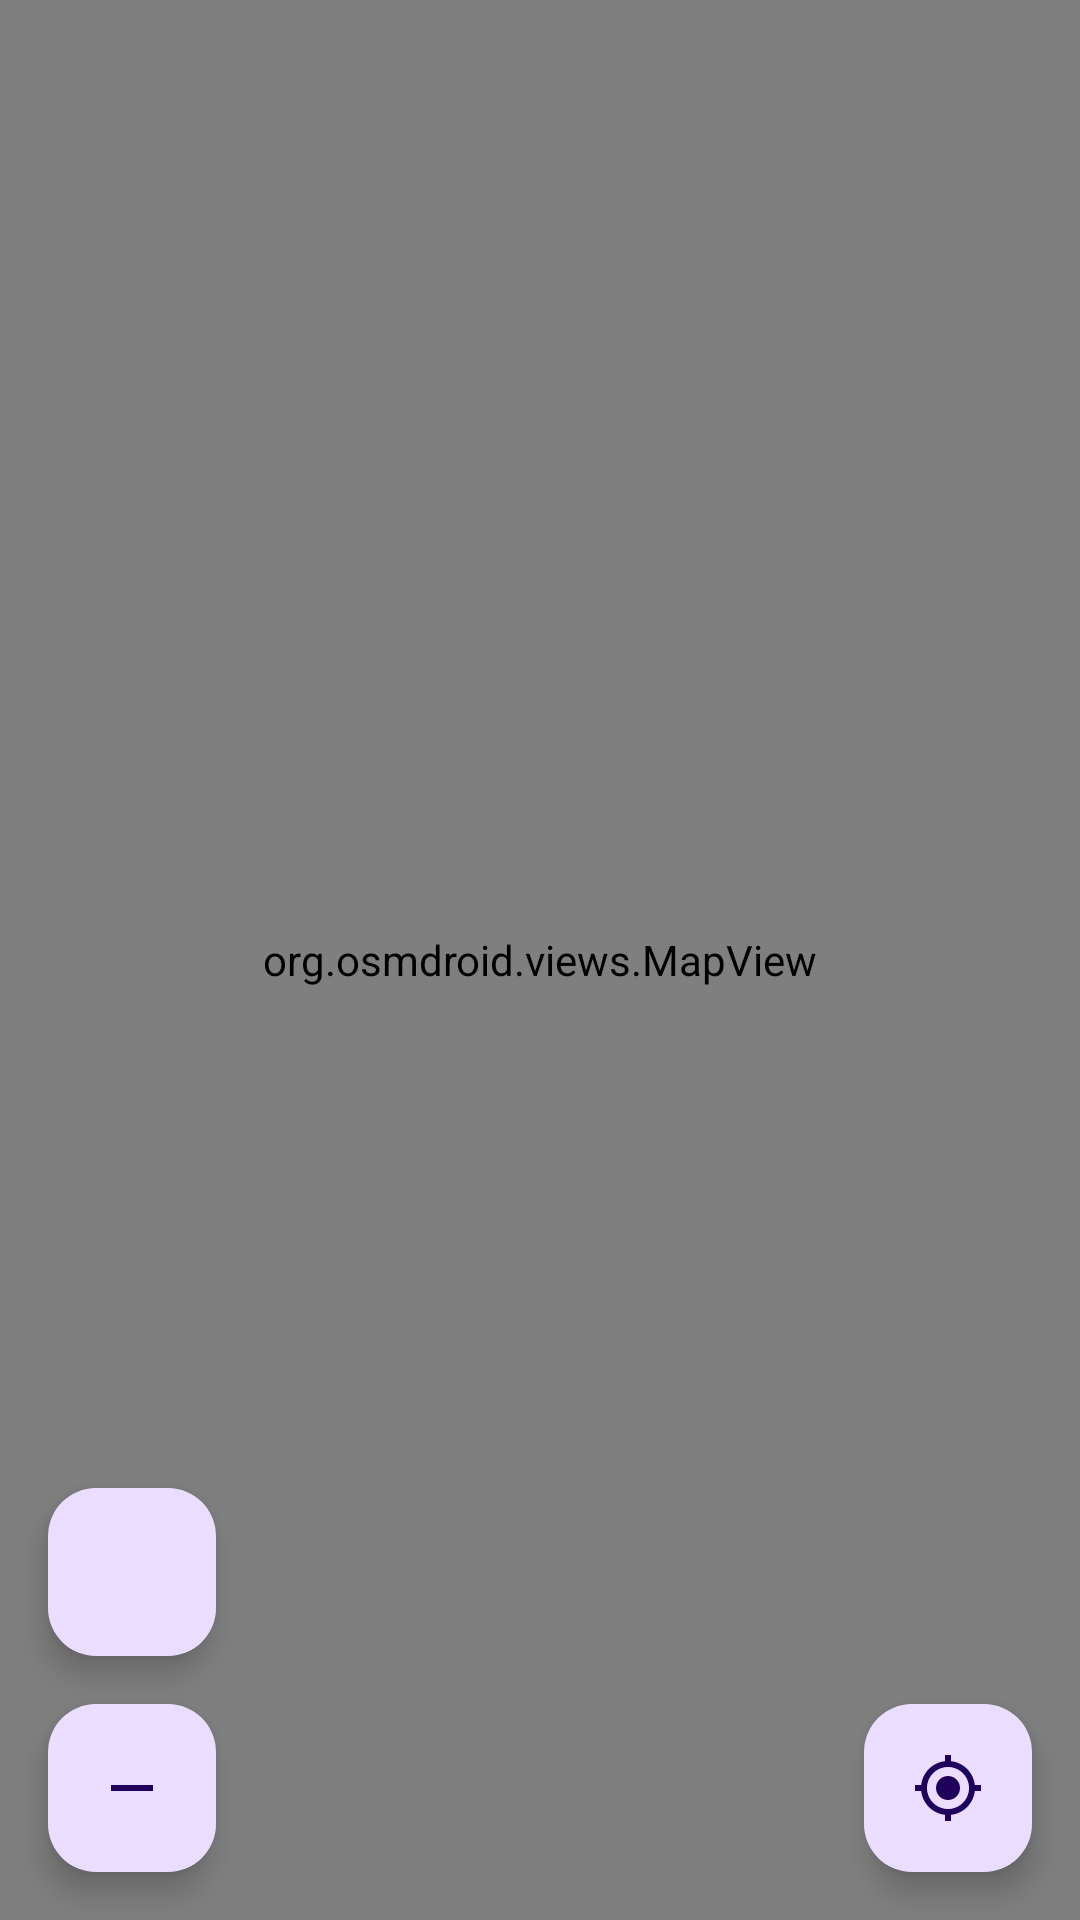

Icons on this 1080px x 1920px Android screen, each with the point to tap as point (x, y):
My Location: point (948, 1788)
Zoom Out: point (132, 1788)
